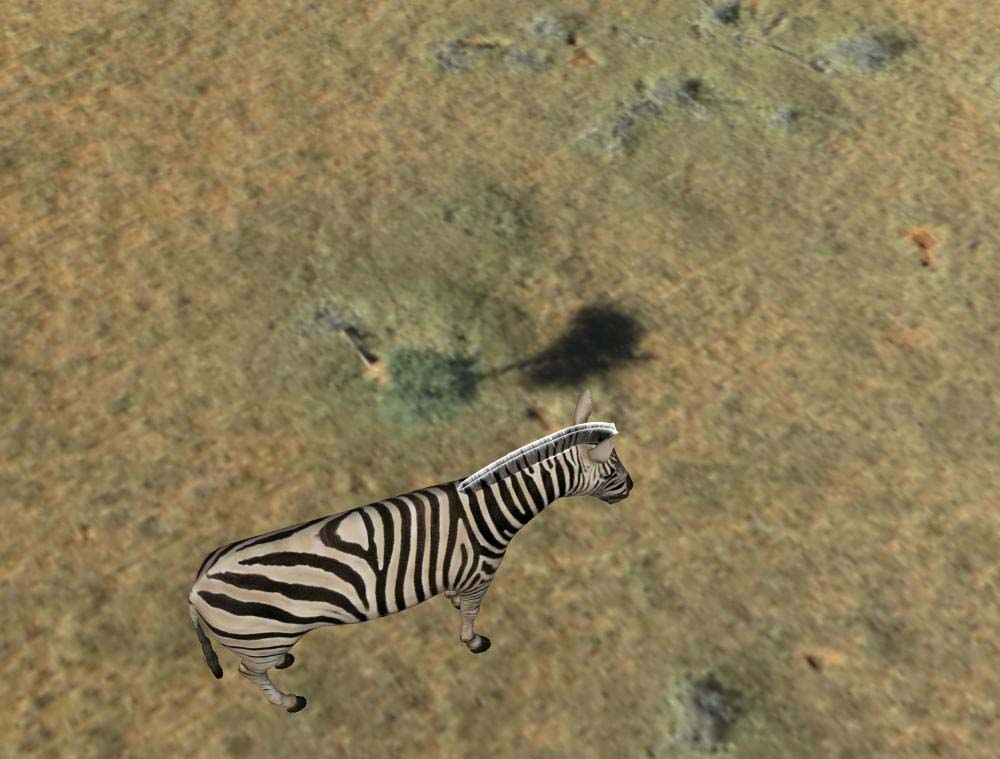zebra: (193, 392, 636, 713)
